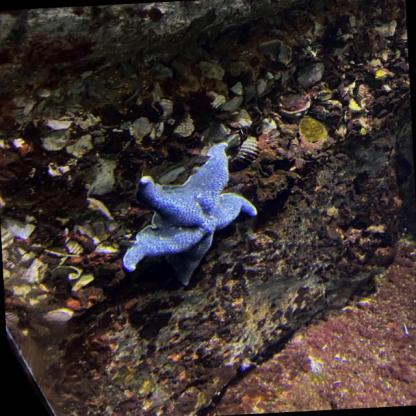starfish: (116, 140, 262, 290)
